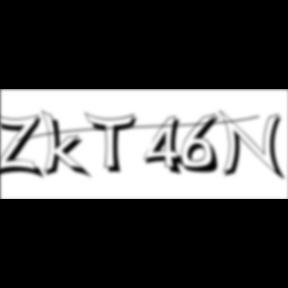4: (144, 115, 190, 179)
6: (182, 112, 226, 176)
N: (218, 109, 288, 183)
T: (85, 112, 143, 176)
Z: (0, 112, 48, 181)
k: (42, 108, 94, 181)
